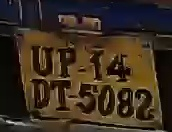0: (97, 84, 115, 117)
1: (89, 47, 105, 83)
2: (134, 89, 156, 123)
4: (107, 53, 133, 83)
5: (78, 81, 97, 118)
8: (116, 86, 135, 121)
D: (28, 78, 51, 114)
P: (57, 43, 77, 79)
T: (50, 79, 74, 112)
U: (29, 42, 55, 79)
